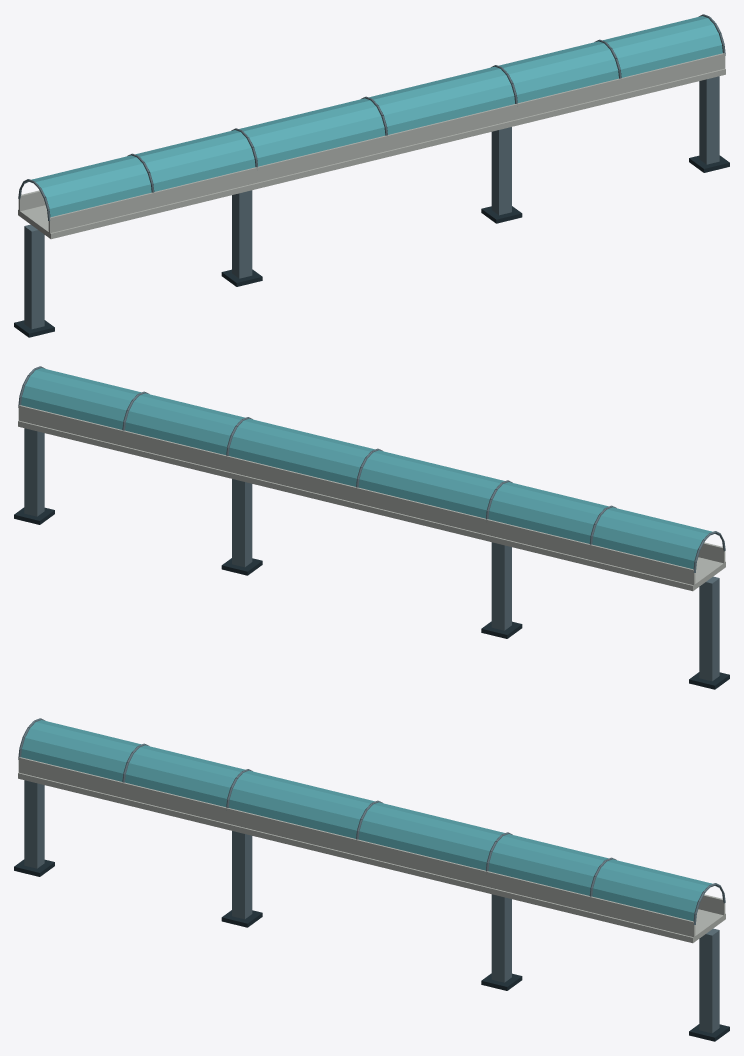
File: bridge_long_d0_lod2.glb
The picture shows the model from 3 angles, top to bottom: view 1: azimuth 30°, elevation 25°; view 2: azimuth 150°, elevation 25°; view 3: azimuth 330°, elevation 25°; orthographic projection.
Visible parts, largest first — view 1: BODY; view 2: BODY; view 3: BODY.
Boxes of the visible parts, x1,y1,x2,y2 form: BODY: [14, 14, 729, 337]; BODY: [14, 366, 729, 689]; BODY: [14, 718, 729, 1041].
Size of the model in its own units: 54 by 10.9 by 4.4.
